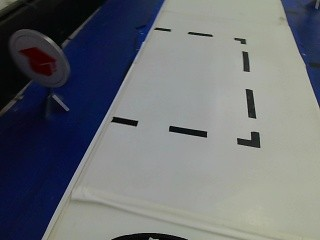school: (9, 33, 65, 90)
